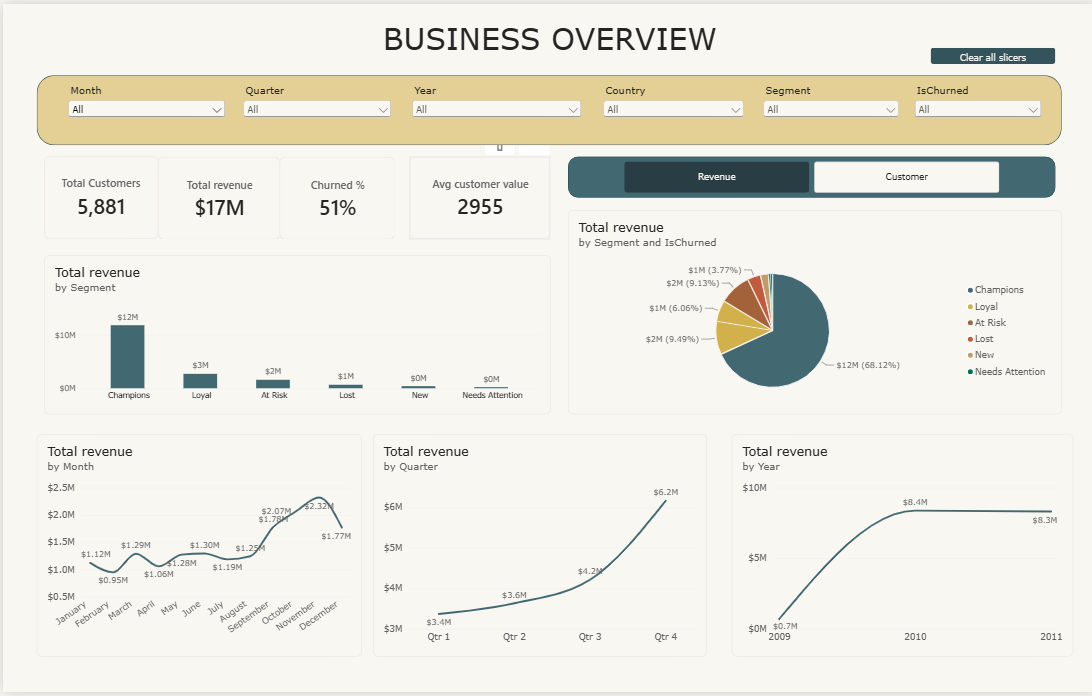

The page's visual inventory and layout, read from the dashboard file:
{"tool":"powerbi","page":{"name":"OVERVIEW","canvas":[1750,1100],"ordinal":0},"visuals":[{"type":"cardVisual","fields":{"Data":["Sheet1.Total Customers"]},"box":[66,244,182,132],"z":0},{"type":"lineChart","fields":{"Category":["Sheet1.InvoiceDate.Variation.Date Hierarchy.Quarter"],"Y":["Sheet1.Total Customers"]},"box":[592,688,548,356],"z":0,"group":"g1"},{"type":"cardVisual","fields":{"Data":["Sheet1.Total revenue"]},"box":[248,244,194,132],"z":1000},{"type":"lineChart","fields":{"Category":["Sheet1.InvoiceDate.Variation.Date Hierarchy.Month"],"Y":["Sheet1.Total Customers"]},"box":[58,688,520,356],"z":1000,"group":"g1"},{"type":"cardVisual","fields":{"Data":["Sheet1.Churned %"]},"box":[442,244,184,132],"z":2000},{"type":"lineChart","fields":{"Category":["Sheet1.InvoiceDate.Variation.Date Hierarchy.Year"],"Y":["Sheet1.Total Customers"]},"box":[1166,688,546,356],"z":2000,"group":"g1"},{"type":"cardVisual","fields":{"Data":["Sheet1.Avg customer value"]},"box":[650,244,226,132],"z":3000},{"type":"columnChart","fields":{"Category":["Sheet1.Segment"],"Y":["Sheet1.Total Customers"]},"box":[58,402,846,264],"z":3000,"group":"g1"},{"type":"shape","box":[54,114,1640,112],"z":4000},{"type":"hundredPercentStackedColumnChart","fields":{"Category":["Sheet1.Segment"],"Series":["Sheet1.IsChurned"],"Y":["Sheet1.Total Customers"]},"box":[904,332,790,326],"z":4000,"group":"g1"},{"type":"shape","box":[904,244,780,66],"z":5000},{"type":"slicer","fields":{"Values":["Sheet1.InvoiceDate.Variation.Date Hierarchy.Quarter"]},"box":[380,128,246,84],"z":6000},{"type":"slicer","fields":{"Values":["Sheet1.InvoiceDate.Variation.Date Hierarchy.Month"]},"box":[100,128,260,84],"z":7000},{"type":"slicer","fields":{"Values":["Sheet1.InvoiceDate.Variation.Date Hierarchy.Year"]},"box":[650,128,280,84],"z":8000},{"type":"slicer","fields":{"Values":["Sheet1.Country"]},"box":[956,128,234,84],"z":9000},{"type":"slicer","fields":{"Values":["Sheet1.Segment"]},"box":[1212,128,226,60],"z":10000},{"type":"slicer","fields":{"Values":["Sheet1.IsChurned"]},"box":[1454,128,212,60],"z":11000},{"type":"group","id":"g1","title":"Customer","box":[58,332,1654,712],"z":12000},{"type":"bookmarkNavigator","box":[994,252,600,50],"z":14000},{"type":"textbox","box":[352,26,1046,70],"z":15000},{"type":"actionButton","box":[1484,70,200,26],"z":16000}]}

Visuals, with their boxes in screenshot pixels (x1, y1, x2, y2), scaled from the page's 1750x1100 canvas onto the 1092x696 screenshot:
cardVisual - Sheet1.Total Customers: pyautogui.locateOnScreen(41, 154, 155, 238)
lineChart - Sheet1.InvoiceDate.Variation.Date Hierarchy.Quarter x Sheet1.Total Customers: pyautogui.locateOnScreen(369, 435, 711, 661)
cardVisual - Sheet1.Total revenue: pyautogui.locateOnScreen(155, 154, 276, 238)
lineChart - Sheet1.InvoiceDate.Variation.Date Hierarchy.Month x Sheet1.Total Customers: pyautogui.locateOnScreen(36, 435, 361, 661)
cardVisual - Sheet1.Churned %: pyautogui.locateOnScreen(276, 154, 391, 238)
lineChart - Sheet1.InvoiceDate.Variation.Date Hierarchy.Year x Sheet1.Total Customers: pyautogui.locateOnScreen(728, 435, 1068, 661)
cardVisual - Sheet1.Avg customer value: pyautogui.locateOnScreen(406, 154, 547, 238)
columnChart - Sheet1.Segment x Sheet1.Total Customers: pyautogui.locateOnScreen(36, 254, 564, 421)
shape: pyautogui.locateOnScreen(34, 72, 1057, 143)
hundredPercentStackedColumnChart - Sheet1.Segment x Sheet1.IsChurned: pyautogui.locateOnScreen(564, 210, 1057, 416)
shape: pyautogui.locateOnScreen(564, 154, 1051, 196)
slicer - Sheet1.InvoiceDate.Variation.Date Hierarchy.Quarter: pyautogui.locateOnScreen(237, 81, 391, 134)
slicer - Sheet1.InvoiceDate.Variation.Date Hierarchy.Month: pyautogui.locateOnScreen(62, 81, 225, 134)
slicer - Sheet1.InvoiceDate.Variation.Date Hierarchy.Year: pyautogui.locateOnScreen(406, 81, 580, 134)
slicer - Sheet1.Country: pyautogui.locateOnScreen(597, 81, 743, 134)
slicer - Sheet1.Segment: pyautogui.locateOnScreen(756, 81, 897, 119)
slicer - Sheet1.IsChurned: pyautogui.locateOnScreen(907, 81, 1040, 119)
"Customer" group: pyautogui.locateOnScreen(36, 210, 1068, 661)
bookmarkNavigator: pyautogui.locateOnScreen(620, 159, 995, 191)
textbox: pyautogui.locateOnScreen(220, 16, 872, 61)
actionButton: pyautogui.locateOnScreen(926, 44, 1051, 61)
